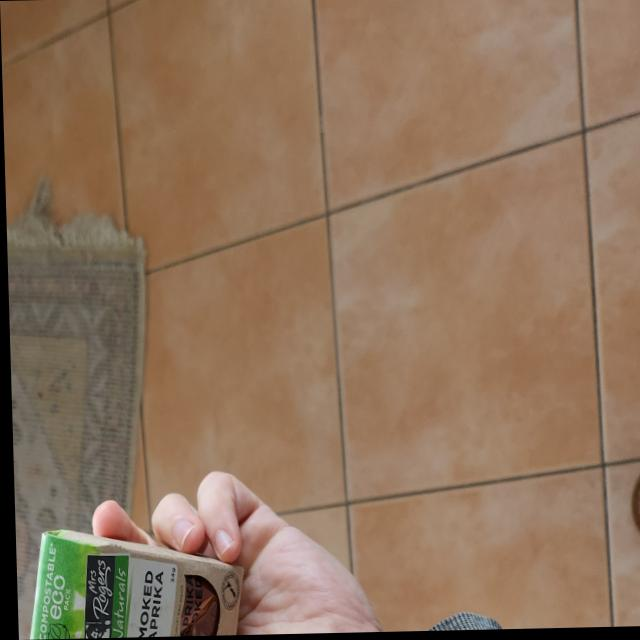paprika: (17, 526, 244, 640)
